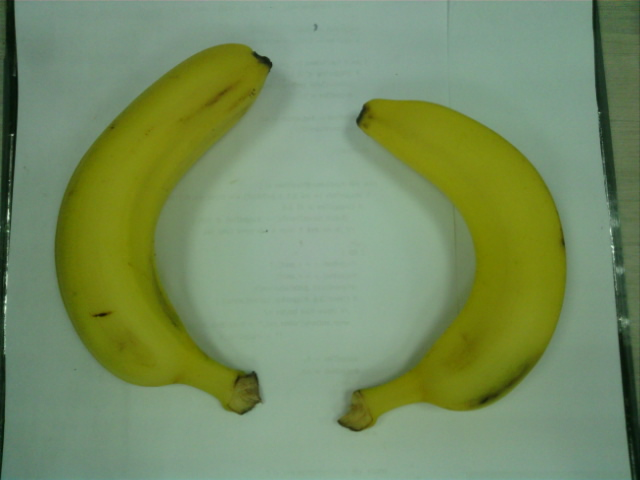normal_banana: (55, 42, 272, 416), (340, 97, 567, 429)
